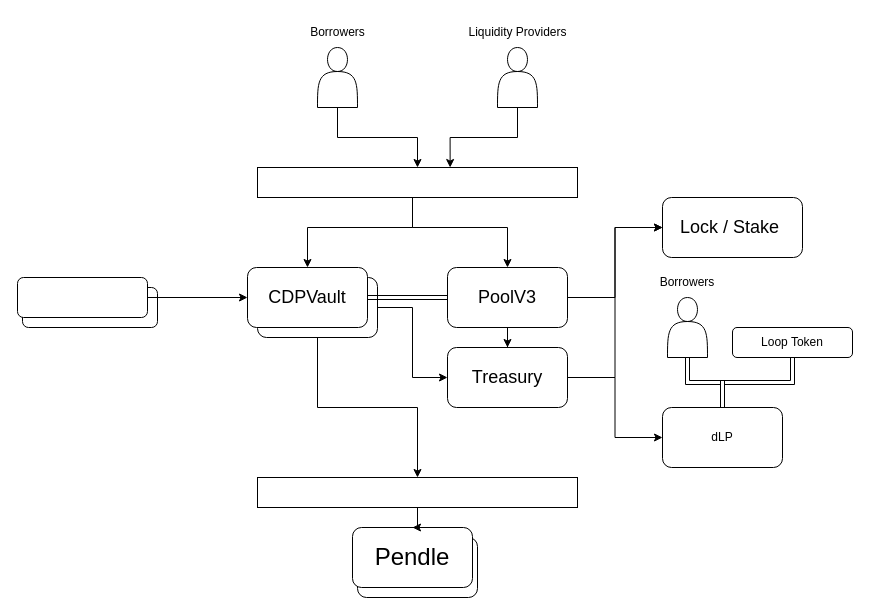
Some shapes in this 870 by 615 pixel diagram are drawn without their labels. Here are the shapes that lost their labels. From the top down, the centre of each, then its label:
At point (417, 182): "Action Contracts".
At point (82, 297): "Price Feeds".
At point (417, 492): "Collateral Tokens".
